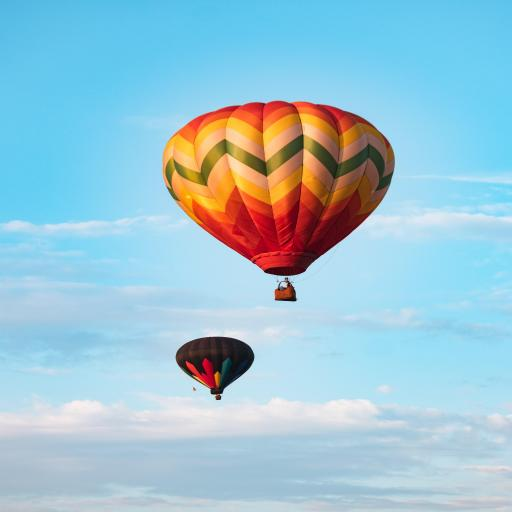hot air ballon: (164, 102, 395, 302), (176, 337, 255, 400)
